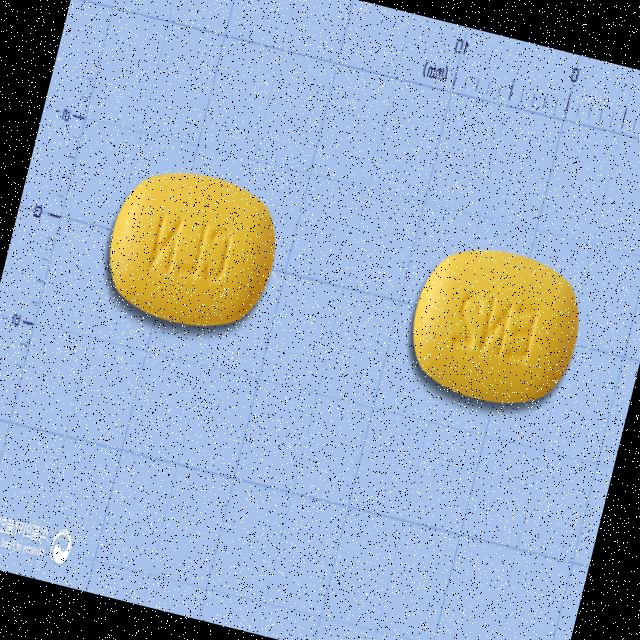Criacin: (396, 232, 594, 419), (94, 157, 288, 342)
